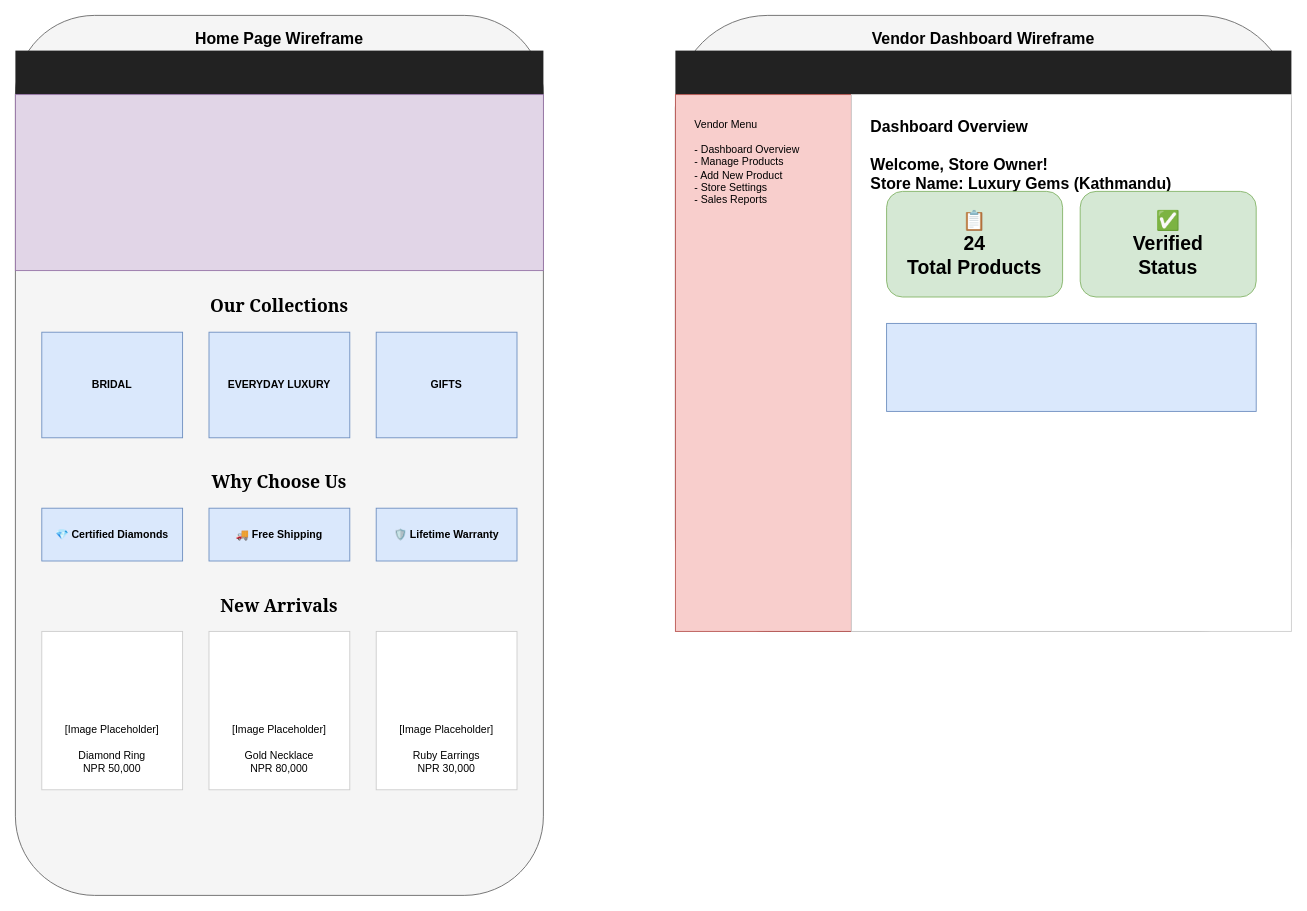
Image size: 1307x911. Some labels were removed from this diagram. The shapes that lost their labels are listed below. From the top down, each one's centre as x and y in pixels, then its label:
At (279,72): "Jewelry Store | Home Collections Products Cart (3)".
At (983,72): "Vendor Portal | View Storefront Logout".
At (279,182): "Timeless Elegance [ Shop Collection ]".
At (1071,367): "Recent Products List Grid placed here".
